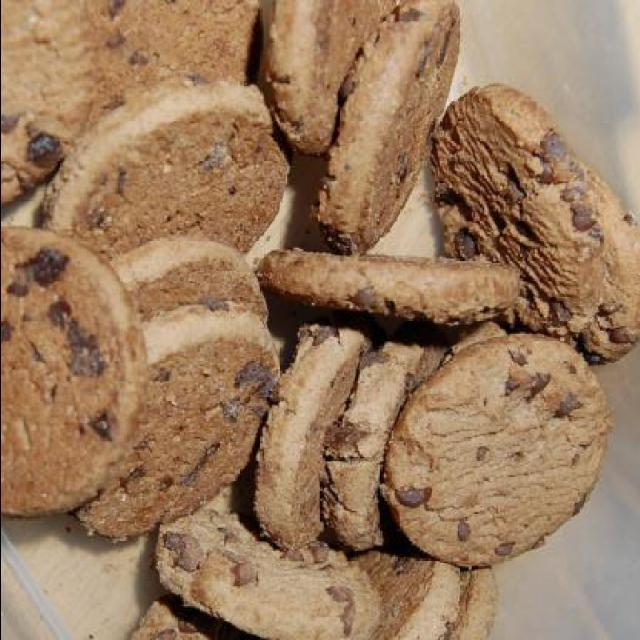Cookie: (377, 328, 617, 574), (34, 69, 294, 271), (66, 304, 282, 544), (430, 80, 606, 343), (0, 229, 154, 520), (304, 0, 460, 255), (158, 508, 380, 640), (77, 0, 266, 131), (247, 246, 525, 326), (266, 0, 400, 160), (2, 0, 100, 203), (568, 155, 640, 367), (115, 238, 272, 324), (342, 539, 464, 639), (128, 592, 246, 640), (441, 558, 499, 640), (442, 314, 509, 372)
